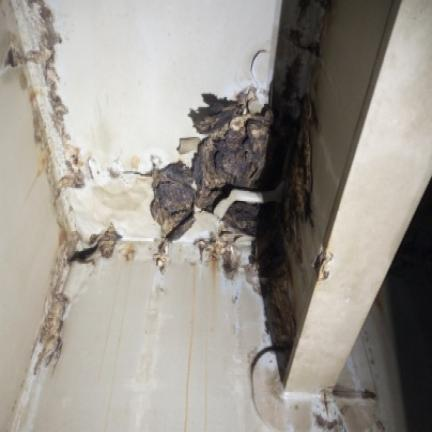besi_tidak_karat: (284, 0, 431, 391)
karat: (149, 56, 315, 243), (4, 0, 83, 192), (256, 204, 295, 378), (286, 94, 313, 261), (36, 294, 68, 371), (225, 201, 259, 235), (311, 247, 331, 278)
